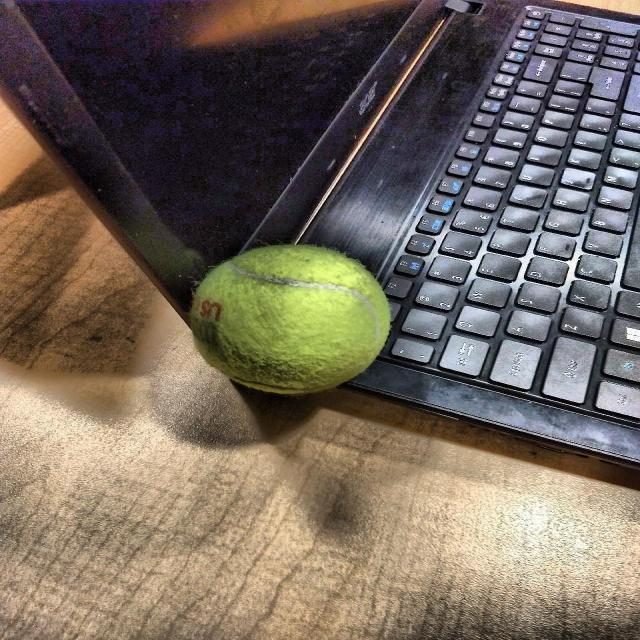tennis-ball: (186, 243, 394, 403)
